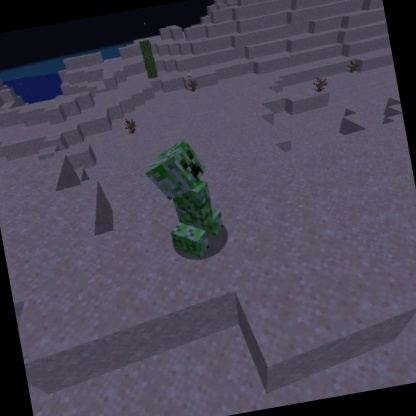creeper: (137, 131, 232, 269)
